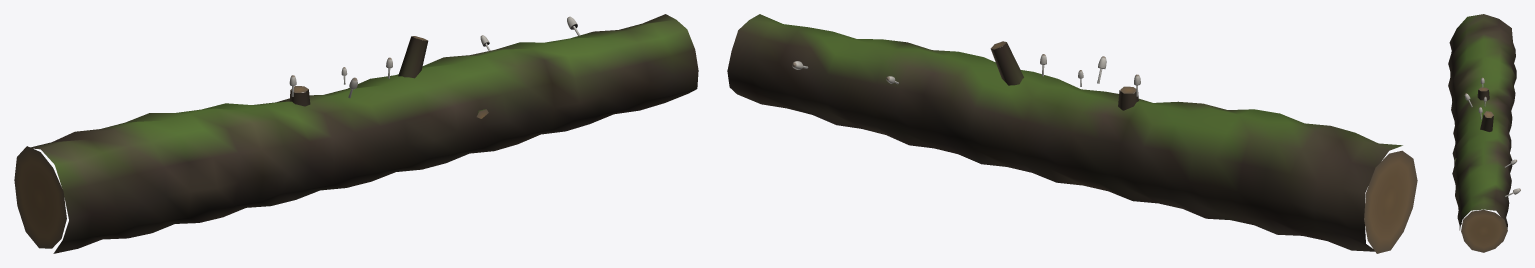
Rendered from log-mossy-a.lod0.glb.
3 views of the same model, side by side, from view 1: azimuth 30°, elevation 25°; view 2: azimuth 150°, elevation 25°; view 3: azimuth 270°, elevation 25° (orthographic). The views are drawn at different scales.
Bounding box in the file's own units: 4.04 × 0.7512 × 0.6837.
